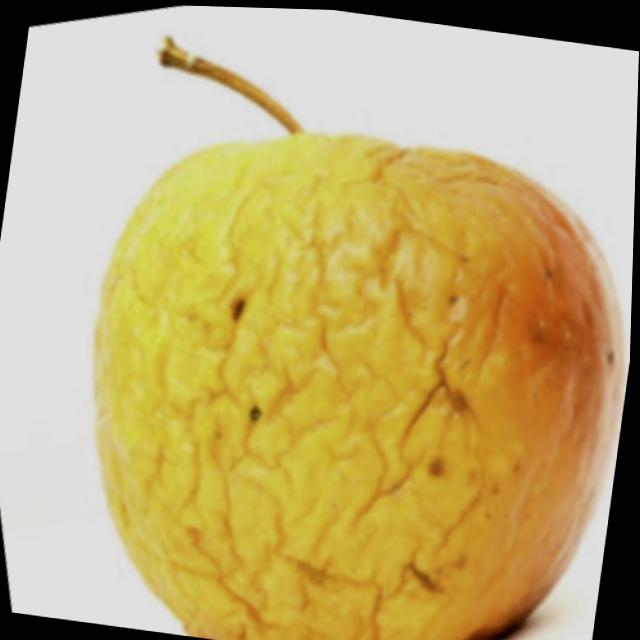organik: (0, 5, 640, 640)
